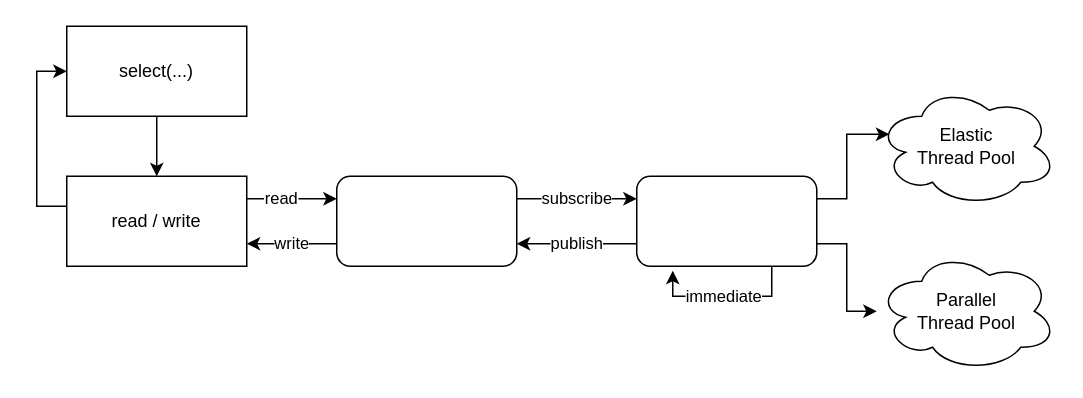
Some shapes in this 1083 by 398 pixel diagram are drawn without their labels. The shapes that lost their labels are listed below. From the top down, each one's centre as x and y in pixels, then its label:
(x=426, y=220): Mono/Flux operator(...)
(x=726, y=220): Schedule
